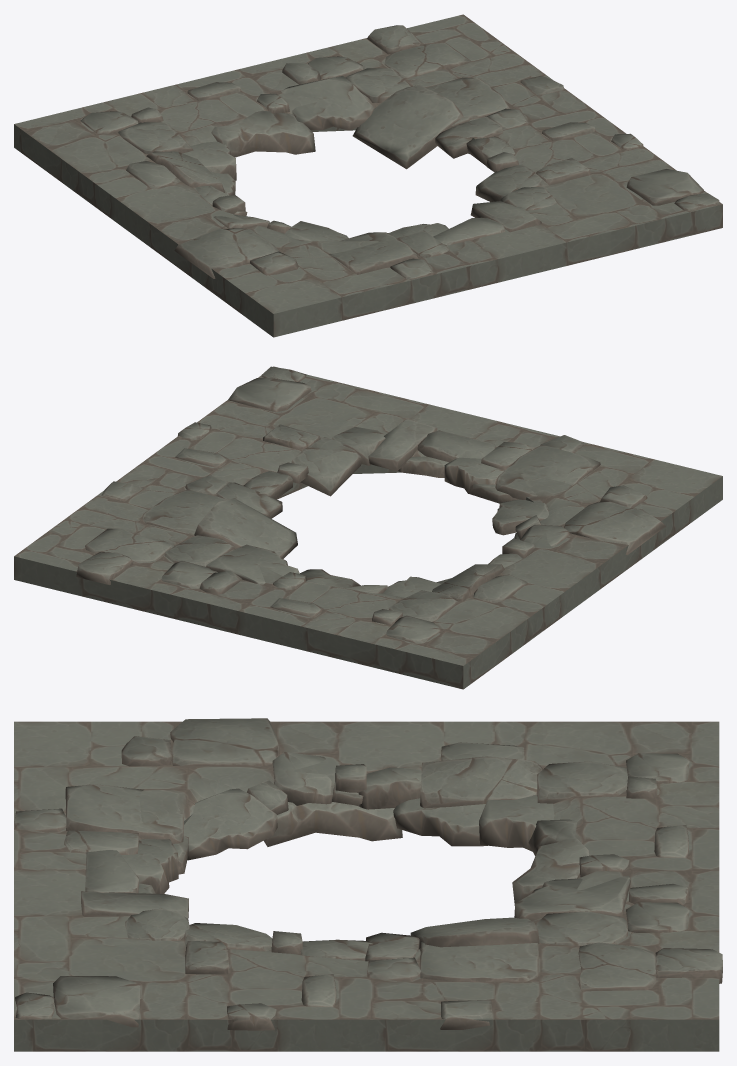
The model's file is SM_FW01_Ruins_Int_Floor_4x4_Brkn_02.fbx.
The picture shows the model from 3 angles, top to bottom: view 1: azimuth 30°, elevation 25°; view 2: azimuth 150°, elevation 25°; view 3: azimuth 270°, elevation 25°; orthographic projection. The views are drawn at different scales.
Parts seen in each view (by area): view 1: SM_FW01_Ruins_Int_Floor_4x4_Brkn_02, SM_FW01_Ruins_Int_Floor_4x4_Brkn_02_LOD0; view 2: SM_FW01_Ruins_Int_Floor_4x4_Brkn_02, SM_FW01_Ruins_Int_Floor_4x4_Brkn_02_LOD0; view 3: SM_FW01_Ruins_Int_Floor_4x4_Brkn_02, SM_FW01_Ruins_Int_Floor_4x4_Brkn_02_LOD0.
Part boxes in pixels (x1,y1,x2,y2): SM_FW01_Ruins_Int_Floor_4x4_Brkn_02: [14, 14, 722, 337]; SM_FW01_Ruins_Int_Floor_4x4_Brkn_02_LOD0: [80, 25, 719, 280]; SM_FW01_Ruins_Int_Floor_4x4_Brkn_02: [14, 366, 722, 689]; SM_FW01_Ruins_Int_Floor_4x4_Brkn_02_LOD0: [76, 366, 665, 643]; SM_FW01_Ruins_Int_Floor_4x4_Brkn_02: [14, 721, 719, 1051]; SM_FW01_Ruins_Int_Floor_4x4_Brkn_02_LOD0: [14, 718, 722, 1030].
Size of what is drawn, in the model's own units: 4.03 by 0.4274 by 4.02.
